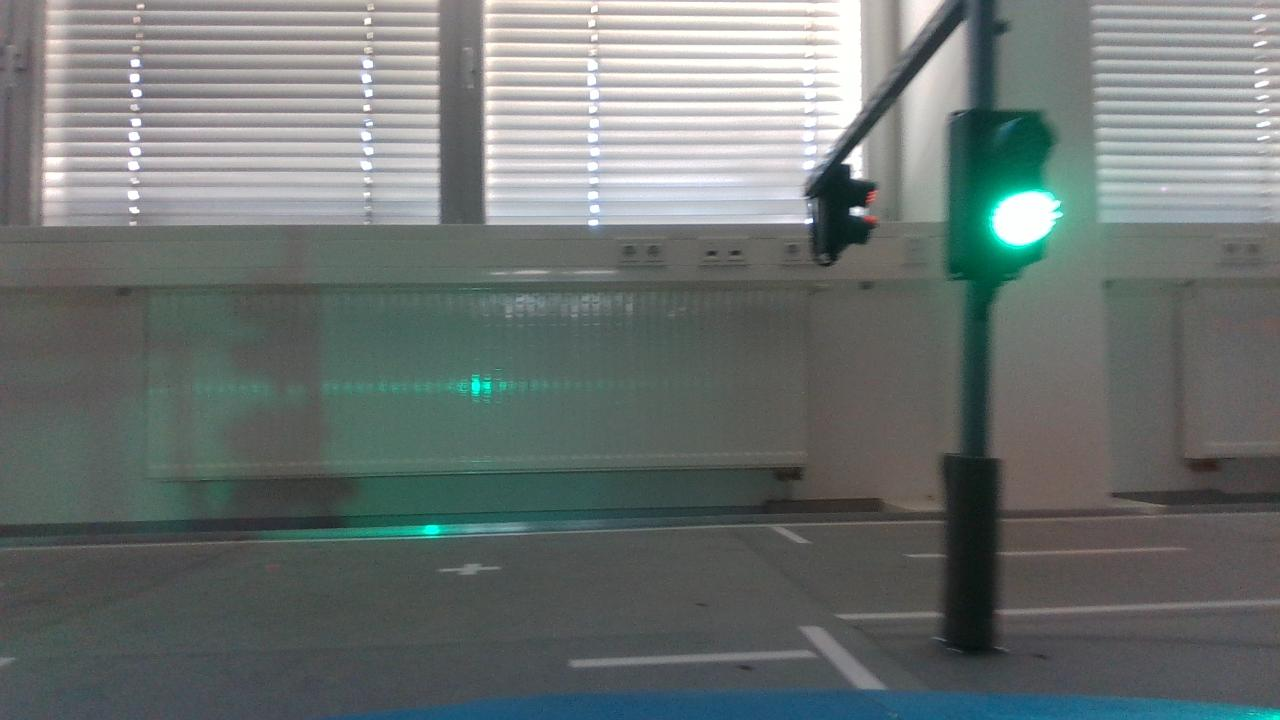traffic_light_green: (929, 97, 1073, 290)
